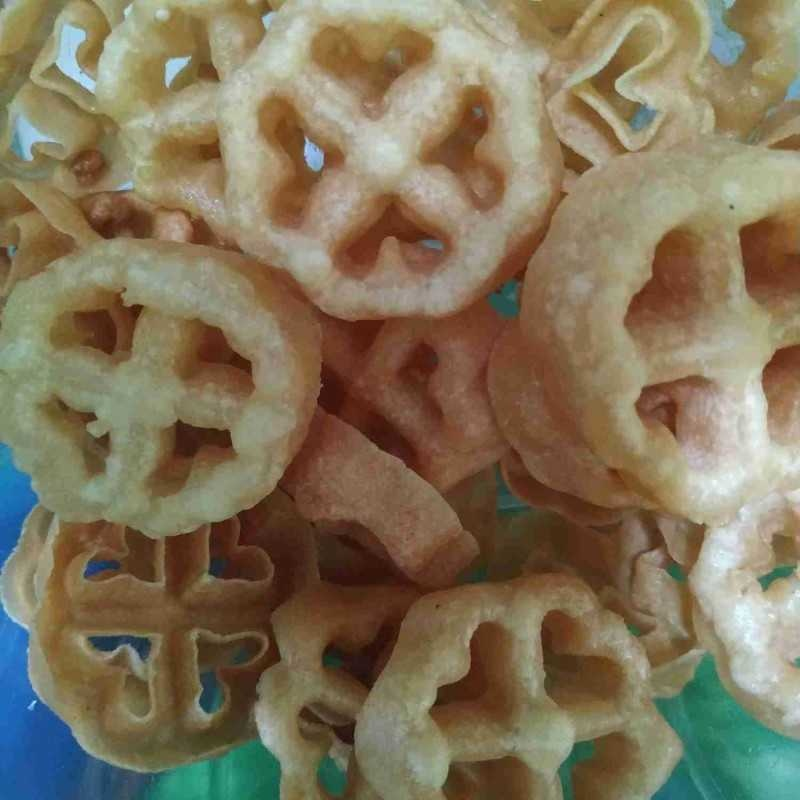kembang_goyang: (238, 17, 523, 314)
